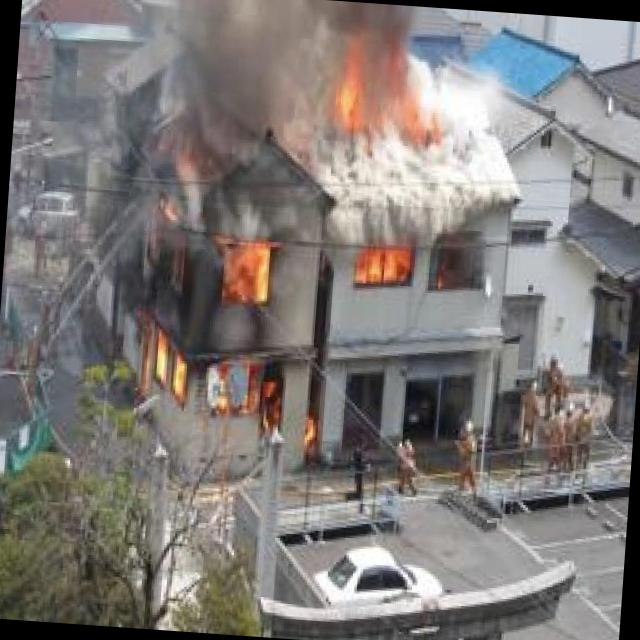Fire: (114, 213, 336, 470), (353, 235, 417, 292)
Smoke: (161, 0, 528, 251)
